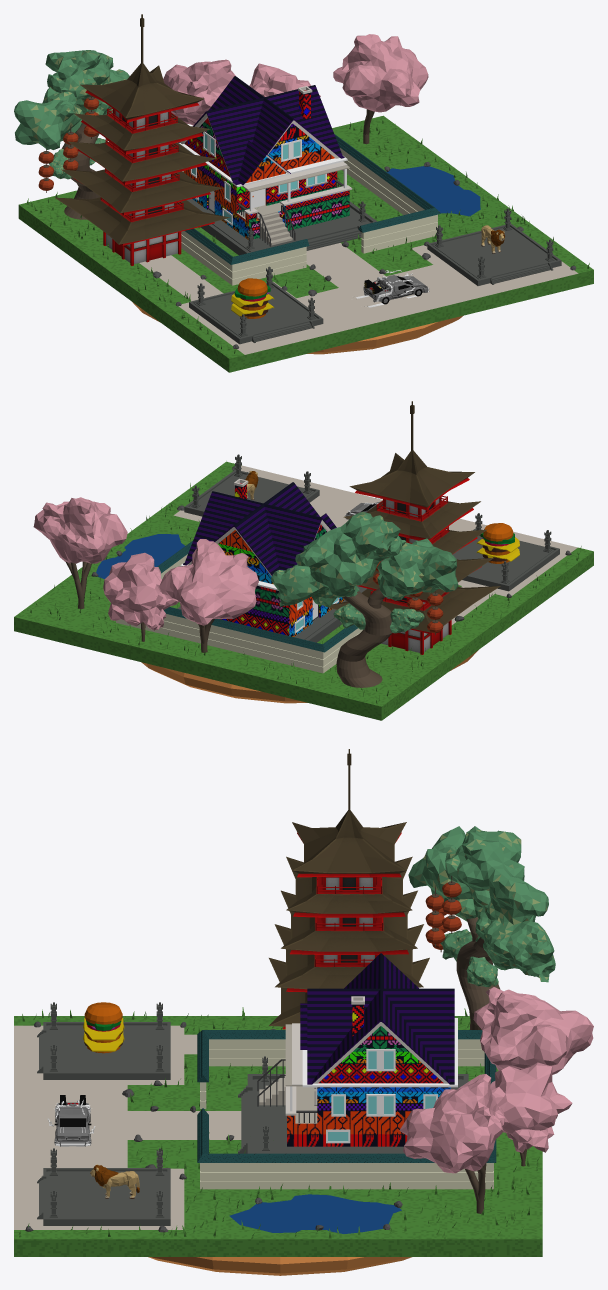
3 views of the same model, one above another, from view 1: azimuth 30°, elevation 25°; view 2: azimuth 150°, elevation 25°; view 3: azimuth 270°, elevation 25° (orthographic). The views are drawn at different scales.
Visible parts, largest first — view 1: Cube.005, Cube.966, VEHICLES_DELOREAN, UNDERGROUND_PIZZA, OBJRANDOM_HAMBURGER; view 2: Cube.005, Cube.966, UNDERGROUND_PIZZA, OBJRANDOM_HAMBURGER; view 3: Cube.005, Cube.966, UNDERGROUND_PIZZA, OBJRANDOM_HAMBURGER, VEHICLES_DELOREAN, ANIMAL_LEON.
Part boxes in pixels (box(x1,y1,x2,y2)): Cube.005: box(14, 14, 593, 372); Cube.966: box(177, 76, 352, 246); VEHICLES_DELOREAN: box(354, 270, 429, 307); UNDERGROUND_PIZZA: box(132, 302, 463, 354); OBJRANDOM_HAMBURGER: box(231, 278, 274, 318); Cube.005: box(14, 401, 593, 720); Cube.966: box(180, 478, 344, 636); UNDERGROUND_PIZZA: box(141, 650, 478, 703); OBJRANDOM_HAMBURGER: box(476, 523, 519, 563); Cube.005: box(14, 749, 593, 1256); Cube.966: box(257, 953, 457, 1146); UNDERGROUND_PIZZA: box(148, 1257, 411, 1275); OBJRANDOM_HAMBURGER: box(83, 1002, 124, 1053); VEHICLES_DELOREAN: box(47, 1095, 95, 1146); ANIMAL_LEON: box(90, 1164, 139, 1198).
Size of the model in its own units: 4528 by 2902 by 4389.
Materials: 54 (9 with a texture image).
